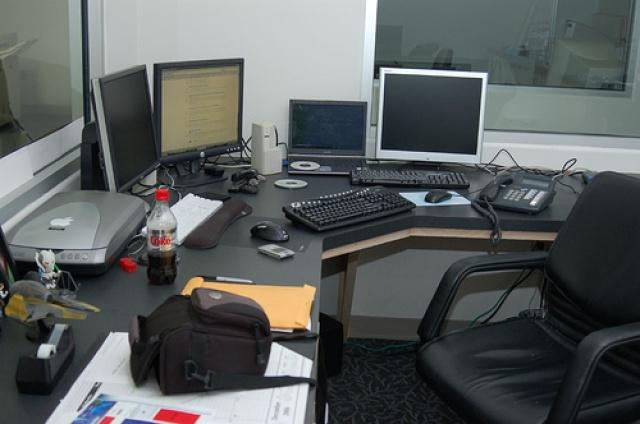AIO PC-Monitor-TV: (377, 65, 488, 167), (152, 56, 244, 163), (90, 60, 160, 191)
Kursi: (413, 170, 639, 423)
